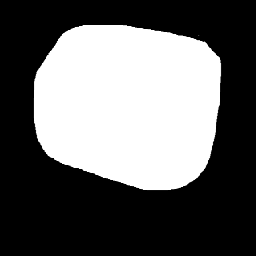mass: (29, 22, 220, 182)
